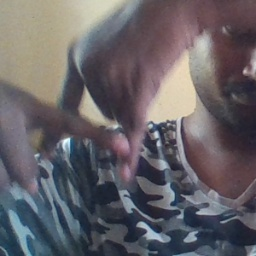H: (21, 58, 160, 194)
